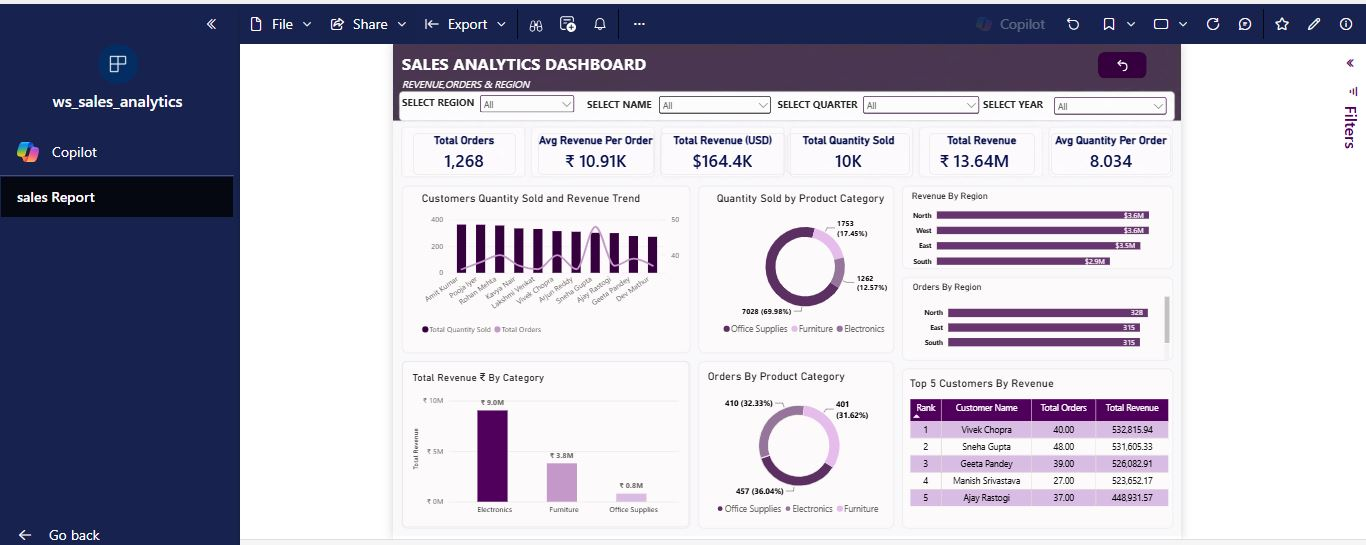

This screenshot's page, from the dashboard's own definition file:
{"tool":"powerbi","page":{"name":"Sales Analytics Overview","canvas":[1290,810],"ordinal":0},"visuals":[{"type":"textbox","box":[15.2,13.5,411.4,52.5],"z":0},{"type":"textbox","box":[620.9,87.6,171,27.1],"z":0,"group":"g2"},{"type":"textbox","box":[965.1,88.8,147.6,28.6],"z":0,"group":"g1"},{"type":"textbox","box":[14.4,47.8,330.3,35.6],"z":1000,"group":"g4"},{"type":"slicer","fields":{"Values":["dim_date.quarter"]},"box":[765.3,79.7,200,36.5],"z":1000,"group":"g2"},{"type":"group","id":"g1","title":"Group 1","box":[965.1,82.5,304.8,49.2],"z":1000},{"type":"slicer","fields":{"Values":["dim_date.year"]},"box":[1076.2,82.5,193.7,49.2],"z":1000,"group":"g1"},{"type":"textbox","box":[15,77.2,186.3,23.3],"z":2000,"group":"g4"},{"type":"group","id":"g2","title":"Group 2","box":[620.9,79.7,343.7,36.5],"z":2000},{"type":"group","id":"g3","title":"Group 3","box":[317.1,79.7,305.5,44.8],"z":3000},{"type":"textbox","box":[317.1,88.1,154,28.6],"z":3000,"group":"g3"},{"type":"group","id":"g4","title":"Group 4","box":[14.4,47.8,331.7,55.8],"z":4000},{"type":"slicer","fields":{"Values":["dim_customer.customer_name"]},"box":[429.8,79.7,193,44.6],"z":4000,"group":"g3"},{"type":"slicer","fields":{"Values":["dim_customer.region"]},"box":[137.4,70.3,164.4,33.2],"z":5000,"group":"g4"},{"type":"cardVisual","title":"Total Orders","fields":{"Data":["fact_sales.Total Orders"]},"box":[32.2,145.6,167.6,67.7],"z":5000},{"type":"cardVisual","title":"Avg Revenue Per  Order","fields":{"Data":["fact_sales.Avg Revenue per Order"]},"box":[237,145.6,189.6,67.7],"z":6000},{"type":"cardVisual","title":"Total Revenue (USD)","fields":{"Data":["fact_sales.Total Revenue usd"]},"box":[436.8,145.6,204.8,67.7],"z":7000},{"type":"cardVisual","title":"Avg Quantity Per Order","fields":{"Data":["fact_sales.AVG QUANTITY per Order"]},"box":[1076.7,145.6,196.4,67.7],"z":8000},{"type":"cardVisual","title":"Total Quantity Sold","fields":{"Data":["fact_sales.Total Quantity Sold"]},"box":[645,145.6,201.5,67.7],"z":9000},{"type":"cardVisual","title":"Total Revenue","fields":{"Data":["fact_sales.Total Revenue"]},"box":[876.9,145.6,172.7,67.7],"z":10000},{"type":"clusteredBarChart","title":"Revenue By Region","fields":{"Category":["dim_region.region"],"Y":["fact_sales.Total Revenue"]},"box":[832.8,226.1,457.2,162.9],"z":11000},{"type":"barChart","title":"Orders By Region","fields":{"Category":["dim_region.region"],"Y":["fact_sales.Total Orders"]},"box":[835.1,375.2,451.6,157.7],"z":12000},{"type":"donutChart","title":"Orders By Product Category","fields":{"Category":["dim_product.product_category"],"Y":["fact_sales.Total Orders"]},"box":[499.7,518,330.4,272.3],"z":13000},{"type":"pieChart","title":"Quantity Sold by Product Category","fields":{"Category":["dim_product.product_category"],"Y":["fact_sales.Total Quantity Sold"]},"box":[513,227.5,321.2,268.8],"z":14000},{"type":"tableEx","title":"Top 5 Customers By Revenue","fields":{"Values":["fact_sales.Customer Rank","dim_customer.customer_name","fact_sales.Total Orders","fact_sales.Total Revenue"]},"box":[830.1,529.6,456.6,249],"z":15000},{"type":"columnChart","title":"Total Revenue ₹ By Category","fields":{"Category":["dim_product.product_category"],"Y":["fact_sales.Total Revenue"]},"box":[14.9,518,469.8,272.3],"z":16000},{"type":"lineClusteredColumnComboChart","title":"Customers Quantity Sold and Revenue Trend","fields":{"Category":["dim_customer.customer_name"],"Y":["fact_sales.Total Quantity Sold"],"Y2":["fact_sales.Total Orders"]},"box":[31.5,227.5,453.2,269],"z":16001},{"type":"actionButton","box":[1153.9,13.3,79.7,43.2],"z":16002}]}

Visuals, with their boxes on the page's 1290x810 design canvas (x1, y1, x2, y2). These are canvas units, not pixel positions in the 1366x545 screenshot, which may show the page scaled, cropped or inside an application window:
textbox: bbox=[15, 14, 427, 66]
textbox: bbox=[621, 88, 792, 115]
textbox: bbox=[965, 89, 1113, 117]
textbox: bbox=[14, 48, 345, 83]
slicer - dim_date.quarter: bbox=[765, 80, 965, 116]
"Group 1" group: bbox=[965, 82, 1270, 132]
slicer - dim_date.year: bbox=[1076, 82, 1270, 132]
textbox: bbox=[15, 77, 201, 100]
"Group 2" group: bbox=[621, 80, 965, 116]
"Group 3" group: bbox=[317, 80, 623, 124]
textbox: bbox=[317, 88, 471, 117]
"Group 4" group: bbox=[14, 48, 346, 104]
slicer - dim_customer.customer_name: bbox=[430, 80, 623, 124]
slicer - dim_customer.region: bbox=[137, 70, 302, 104]
"Total Orders" cardVisual: bbox=[32, 146, 200, 213]
"Avg Revenue Per  Order" cardVisual: bbox=[237, 146, 427, 213]
"Total Revenue (USD)" cardVisual: bbox=[437, 146, 642, 213]
"Avg Quantity Per Order" cardVisual: bbox=[1077, 146, 1273, 213]
"Total Quantity Sold" cardVisual: bbox=[645, 146, 846, 213]
"Total Revenue" cardVisual: bbox=[877, 146, 1050, 213]
"Revenue By Region" clusteredBarChart: bbox=[833, 226, 1290, 389]
"Orders By Region" barChart: bbox=[835, 375, 1287, 533]
"Orders By Product Category" donutChart: bbox=[500, 518, 830, 790]
"Quantity Sold by Product Category" pieChart: bbox=[513, 228, 834, 496]
"Top 5 Customers By Revenue" tableEx: bbox=[830, 530, 1287, 779]
"Total Revenue ₹ By Category" columnChart: bbox=[15, 518, 485, 790]
"Customers Quantity Sold and Revenue Trend" lineClusteredColumnComboChart: bbox=[32, 228, 485, 496]
actionButton: bbox=[1154, 13, 1234, 56]
